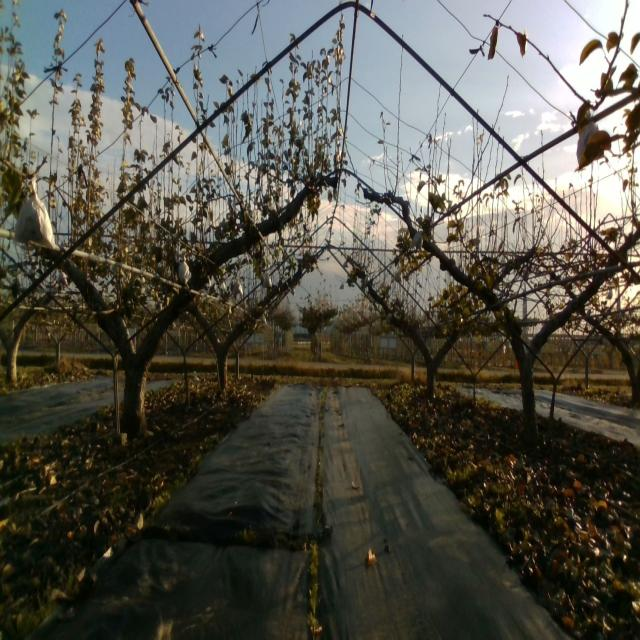pearbags: (12, 176, 60, 252), (576, 106, 598, 162), (178, 256, 192, 284), (410, 232, 425, 250), (232, 280, 242, 300)
